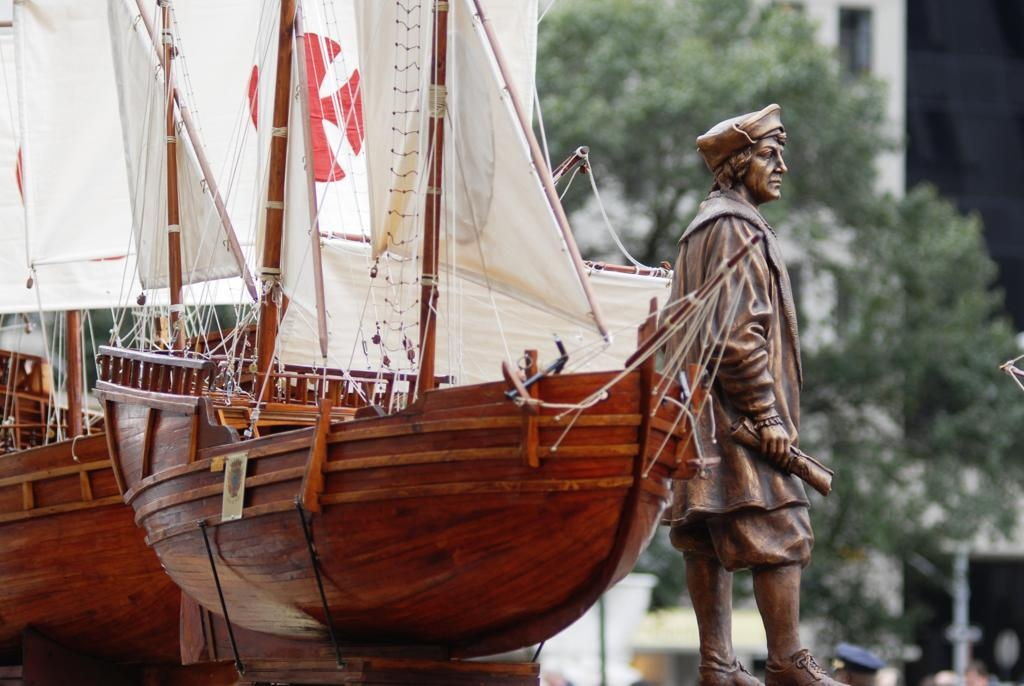human_face: (746, 140, 786, 200), (832, 660, 856, 686), (967, 666, 987, 686)
